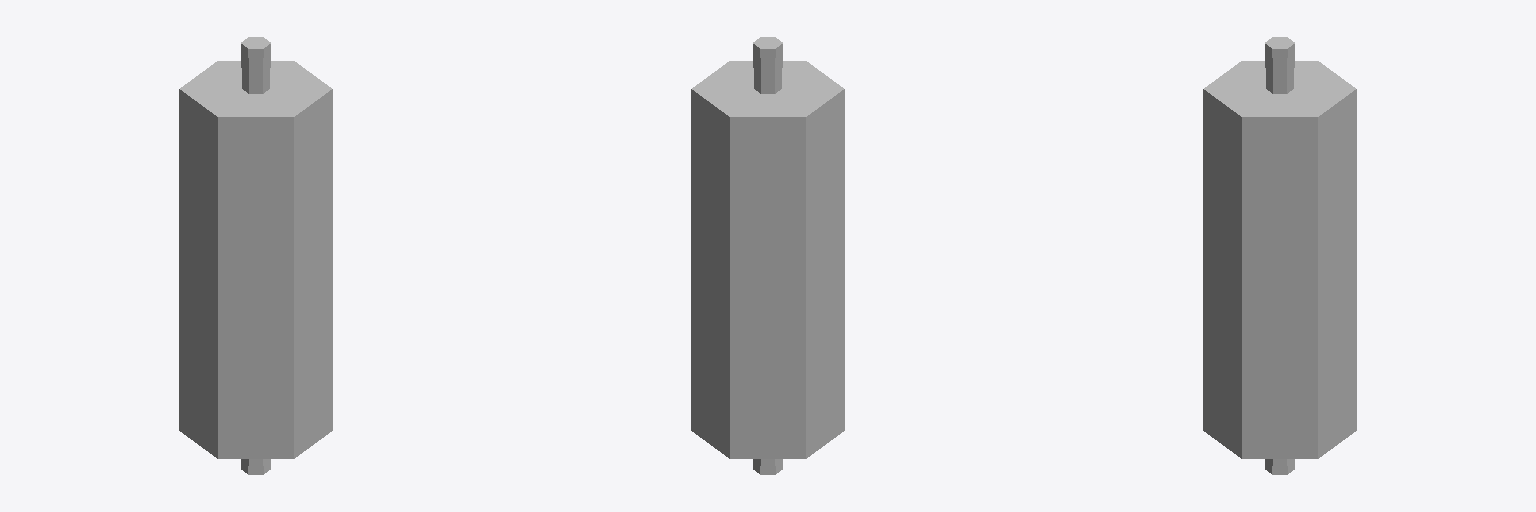
File: door_1.obj
3 renders of one model, left to right at view 1: azimuth 30°, elevation 25°; view 2: azimuth 150°, elevation 25°; view 3: azimuth 270°, elevation 25°, orthographic.
Parts seen in each view (by area): view 1: door:Mesh; view 2: door:Mesh; view 3: door:Mesh.
Part boxes in pixels (left/top/right/bottom): door:Mesh: left=179, top=37, right=332, bottom=474; door:Mesh: left=691, top=37, right=844, bottom=474; door:Mesh: left=1203, top=37, right=1356, bottom=474.
Bounding box in the file's own units: 58.46 × 207 × 67.51.